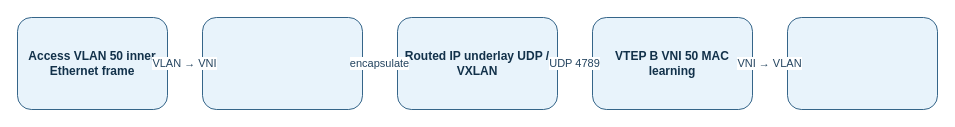
Image size: 955x127. Some labels were removed from this diagram. Here are the shapes that lost their labels. From the top down, the centre of each, then its label:
At point 282,63: "VTEP A VNI 50 remote-ip B".
At point 862,63: "Access VLAN 50 decapsulated frame".
